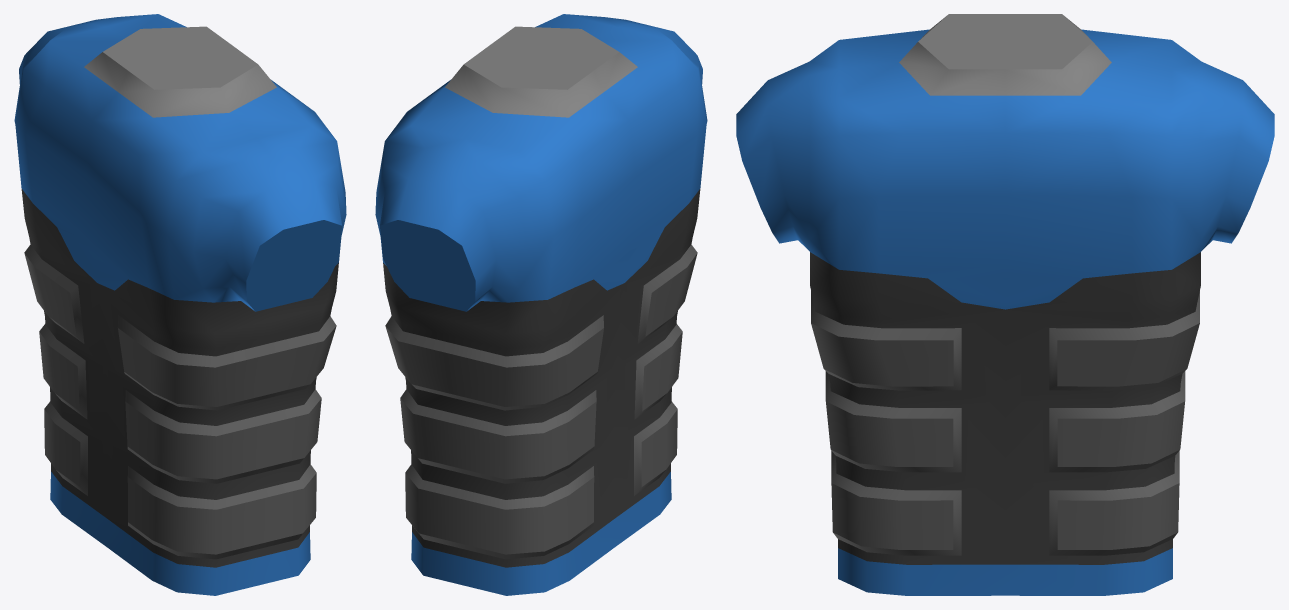
File: body.fbx
3 views of the same model, side by side, from view 1: azimuth 30°, elevation 25°; view 2: azimuth 150°, elevation 25°; view 3: azimuth 270°, elevation 25° (orthographic). The views are drawn at different scales.
Visible parts, largest first — view 1: Cube; view 2: Cube; view 3: Cube.
Boxes of the visible parts, <box> form: Cube: <box>14,14,346,595</box>; Cube: <box>375,14,707,595</box>; Cube: <box>736,14,1274,595</box>.
Bounding box in the file's own units: 54.15 × 125 × 118.
